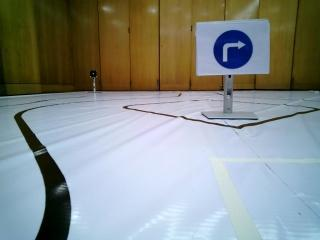right: (200, 22, 265, 73)
